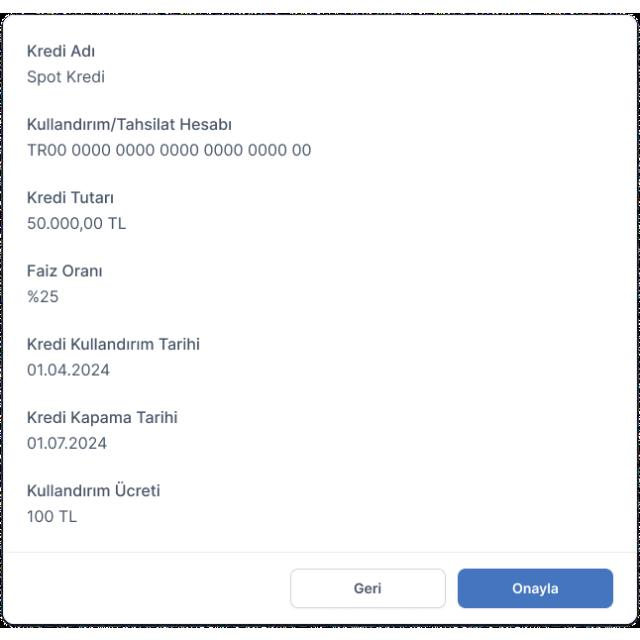QLabel: (23, 138, 314, 160), (21, 115, 232, 131), (23, 334, 201, 352), (23, 408, 178, 426), (25, 480, 163, 498), (22, 188, 118, 206), (24, 214, 130, 230), (22, 262, 104, 280), (24, 360, 110, 376), (22, 68, 108, 84), (24, 434, 106, 450), (24, 42, 98, 56), (26, 508, 78, 524), (510, 580, 560, 596), (26, 288, 60, 302), (353, 580, 382, 594)
VBtn: (457, 566, 613, 608), (292, 566, 448, 608)
VCard: (0, 12, 640, 628)
VDivider: (4, 546, 636, 556)
